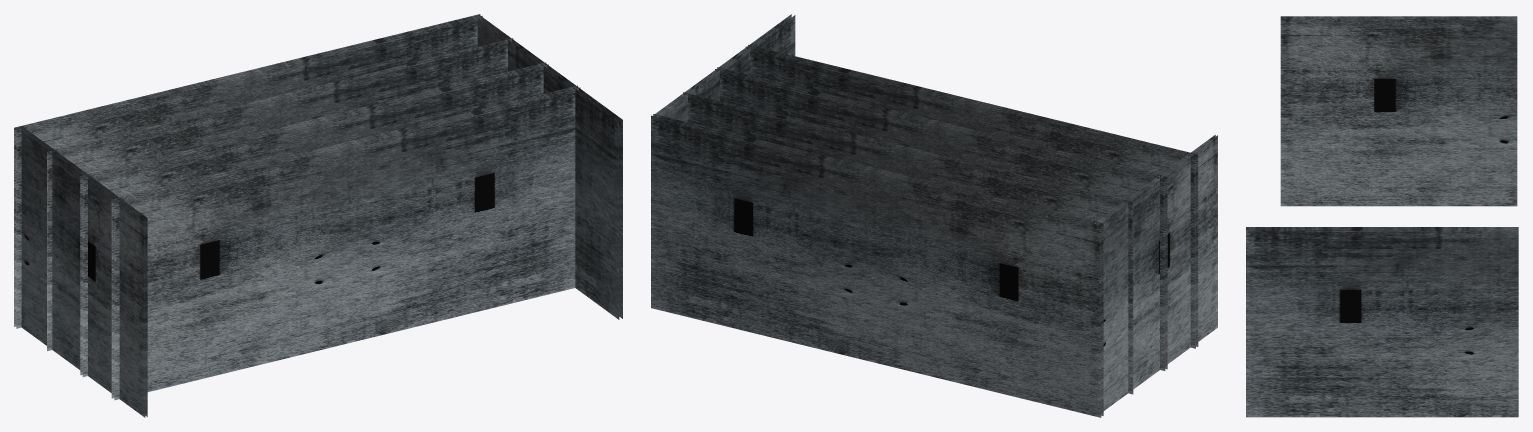
File: store_55.obj
The picture shows the model from 3 angles, left to right: view 1: azimuth 30°, elevation 25°; view 2: azimuth 150°, elevation 25°; view 3: azimuth 270°, elevation 25°; orthographic projection. The views are drawn at different scales.
Size of the model in its own units: 25.54 by 10.43 by 13.68.
